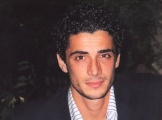male: (60, 23, 124, 100)
